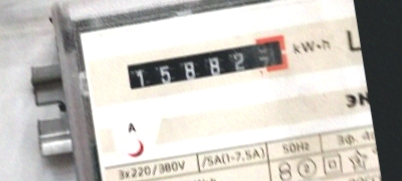1: (133, 67, 145, 86)
2: (231, 49, 246, 71)
5: (155, 63, 172, 84)
7: (255, 52, 269, 66)
8: (205, 53, 221, 76), (181, 58, 196, 79)
screen: (119, 31, 292, 97)
